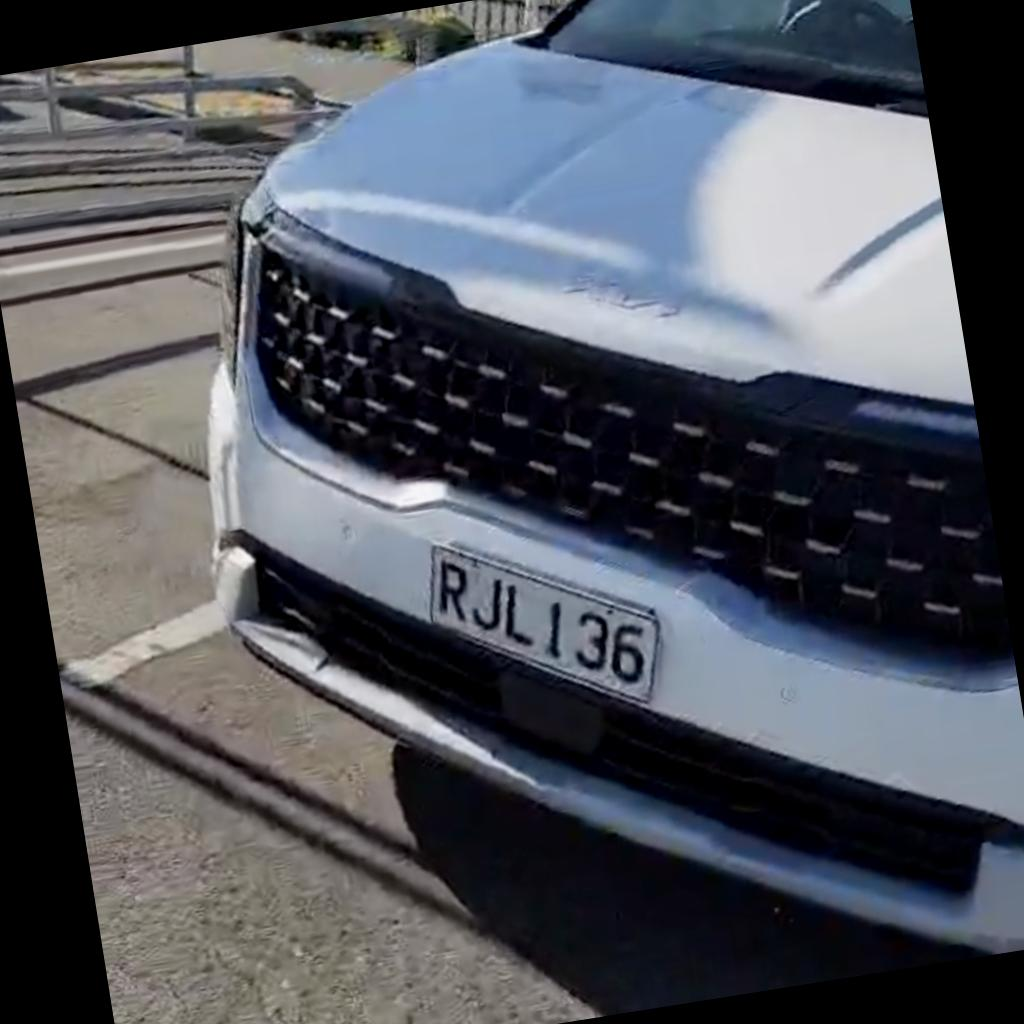Number-Plates: (409, 530, 676, 714)
